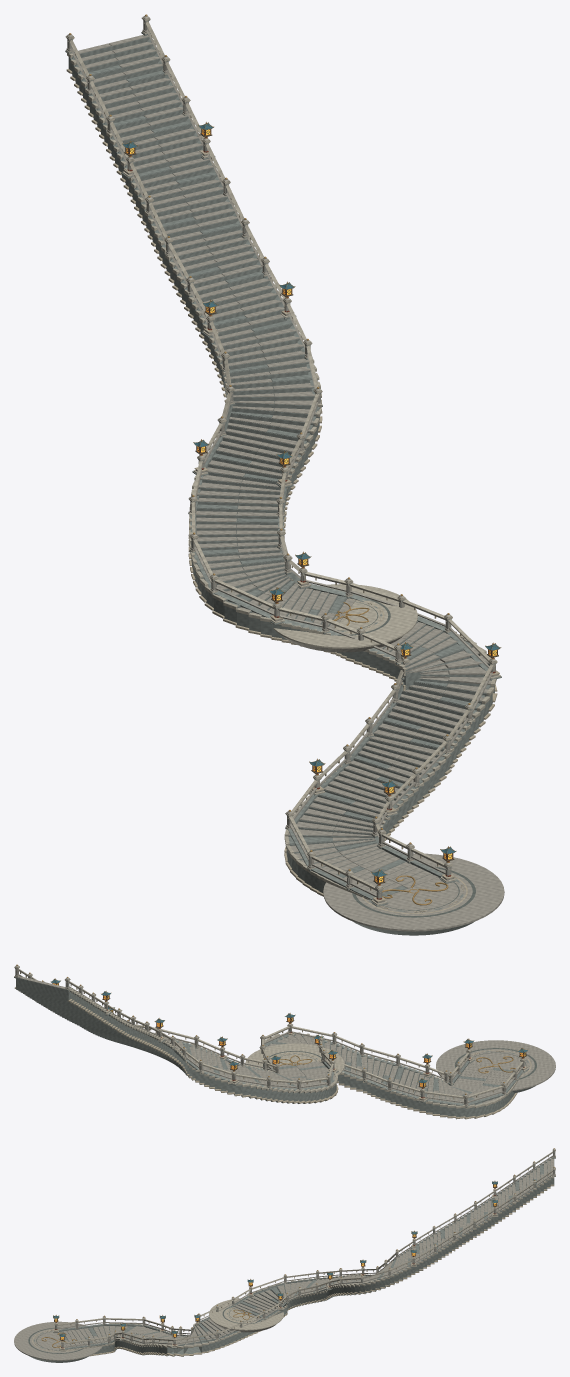
The picture shows the model from 3 angles, top to bottom: view 1: azimuth 30°, elevation 25°; view 2: azimuth 150°, elevation 25°; view 3: azimuth 270°, elevation 25°; orthographic projection. The views are drawn at different scales.
Parts seen in each view (by area): view 1: C01_stone, C01_cool, C01_light, C01_relief; view 2: C01_stone, C01_cool, C01_light, C01_relief, C01_gold, C01_motif, C01_blue, C01_joint, C01_bronze, C01_paper; view 3: C01_stone, C01_cool, C01_light, C01_relief, C01_motif, C01_gold.
Boxes of the visible parts, x1,y1,x2,y2 form: C01_stone: [66, 15, 504, 931]; C01_cool: [65, 20, 501, 935]; C01_light: [65, 17, 500, 905]; C01_relief: [66, 35, 499, 913]; C01_stone: [15, 965, 555, 1105]; C01_cool: [14, 968, 535, 1119]; C01_light: [14, 966, 528, 1108]; C01_relief: [14, 972, 531, 1119]; C01_gold: [51, 978, 527, 1088]; C01_motif: [16, 964, 515, 1094]; C01_blue: [51, 979, 527, 1082]; C01_joint: [269, 1048, 536, 1079]; C01_bronze: [54, 983, 526, 1088]; C01_paper: [53, 983, 525, 1086]; C01_stone: [14, 1149, 555, 1360]; C01_cool: [29, 1151, 555, 1362]; C01_light: [53, 1149, 555, 1350]; C01_relief: [32, 1155, 554, 1356]; C01_motif: [41, 1148, 554, 1347]; C01_gold: [53, 1181, 498, 1341].
Size of the model in its own units: 19.31 by 28.25 by 58.04.
Materials: 13 (6 with a texture image).
